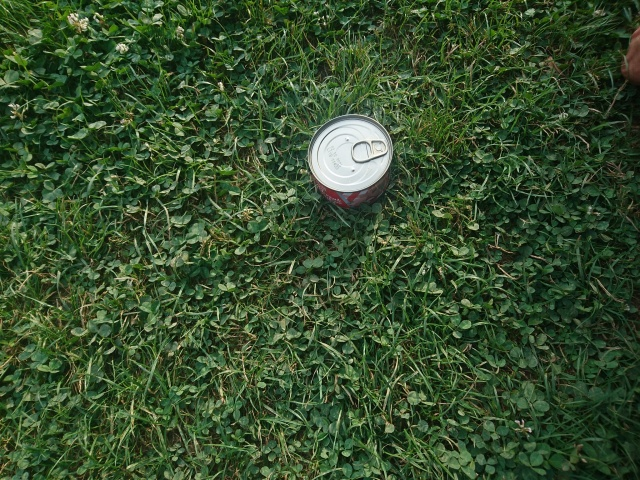Podravka Luncheon Meat 150g: (305, 110, 396, 211)
